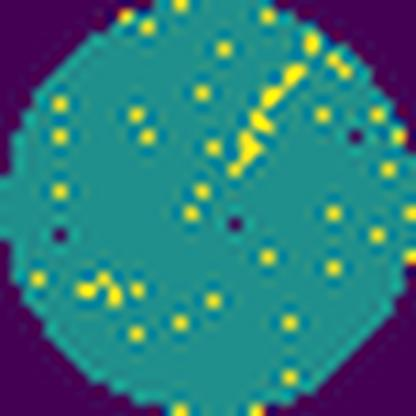Scratch: (226, 59, 312, 180)
